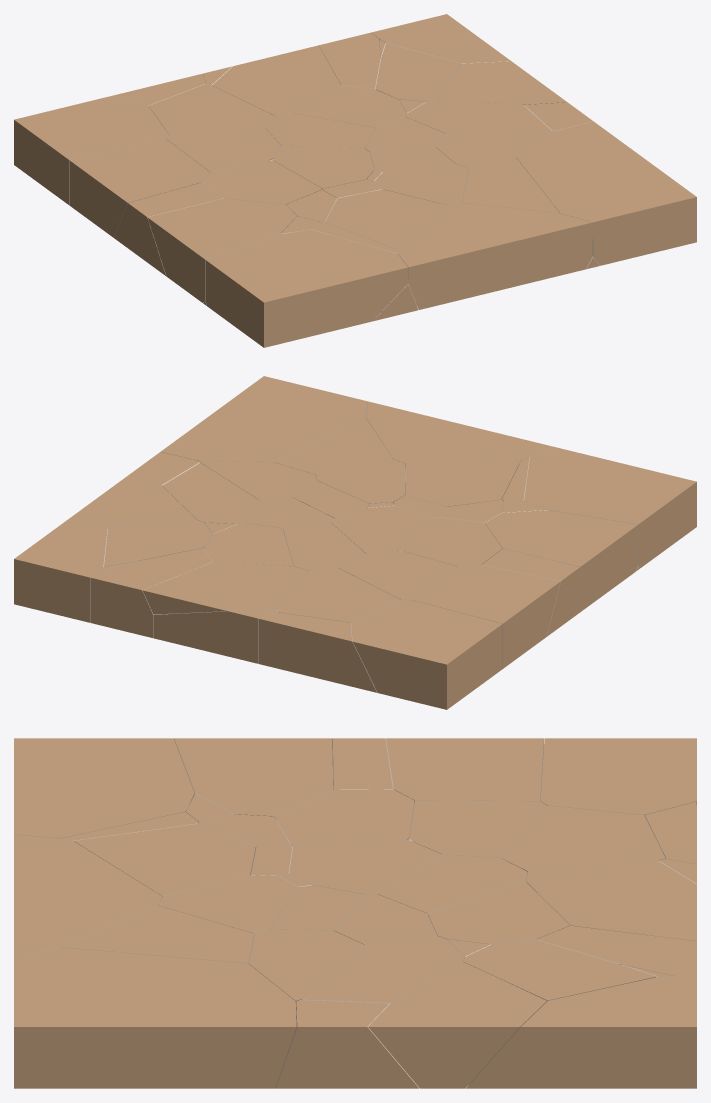
Rendered from Ceiling01_frac.fbx.
The picture shows the model from 3 angles, top to bottom: view 1: azimuth 30°, elevation 25°; view 2: azimuth 150°, elevation 25°; view 3: azimuth 270°, elevation 25°; orthographic projection. The views are drawn at different scales.
Parts seen in each view (by area): view 1: Ceiling01_cell.010, Ceiling01_cell, Ceiling01_cell.011, Ceiling01_cell.013, Ceiling01_cell.008, Ceiling01_cell.007, Ceiling01_cell.018, Ceiling01_cell.005, Ceiling01_cell.012, Ceiling01_cell.020, Ceiling01_cell.037, Ceiling01_cell.019 (+18 smaller); view 2: Ceiling01_cell.013, Ceiling01_cell.010, Ceiling01_cell, Ceiling01_cell.008, Ceiling01_cell.007, Ceiling01_cell.037, Ceiling01_cell.018, Ceiling01_cell.011, Ceiling01_cell.031, Ceiling01_cell.044, Ceiling01_cell.005, Ceiling01_cell.043 (+19 smaller); view 3: Ceiling01_cell, Ceiling01_cell.037, Ceiling01_cell.010, Ceiling01_cell.020, Ceiling01_cell.011, Ceiling01_cell.013, Ceiling01_cell.008, Ceiling01_cell.018, Ceiling01_cell.007, Ceiling01_cell.045, Ceiling01_cell.005, Ceiling01_cell.012 (+19 smaller).
Part boxes in pixels (x1,y1,x2,y2): Ceiling01_cell.010: [205, 230, 408, 347]; Ceiling01_cell: [516, 121, 696, 265]; Ceiling01_cell.011: [396, 203, 592, 309]; Ceiling01_cell.013: [14, 96, 169, 205]; Ceiling01_cell.008: [147, 198, 296, 302]; Ceiling01_cell.007: [70, 138, 210, 237]; Ceiling01_cell.018: [212, 45, 340, 115]; Ceiling01_cell.005: [325, 189, 446, 250]; Ceiling01_cell.012: [149, 84, 275, 135]; Ceiling01_cell.020: [435, 61, 566, 104]; Ceiling01_cell.037: [371, 14, 510, 64]; Ceiling01_cell.019: [405, 100, 550, 133]; Ceiling01_cell.013: [351, 599, 502, 709]; Ceiling01_cell.010: [524, 446, 696, 568]; Ceiling01_cell: [160, 376, 367, 462]; Ceiling01_cell.008: [485, 510, 638, 598]; Ceiling01_cell.007: [410, 564, 560, 668]; Ceiling01_cell.037: [14, 512, 107, 622]; Ceiling01_cell.018: [142, 562, 308, 614]; Ceiling01_cell.011: [366, 401, 551, 473]; Ceiling01_cell.031: [258, 612, 377, 692]; Ceiling01_cell.044: [90, 548, 212, 637]; Ceiling01_cell.005: [405, 460, 520, 506]; Ceiling01_cell.043: [153, 609, 277, 663]; Ceiling01_cell: [14, 947, 296, 1088]; Ceiling01_cell.037: [466, 976, 696, 1088]; Ceiling01_cell.010: [14, 738, 194, 838]; Ceiling01_cell.020: [368, 962, 546, 1088]; Ceiling01_cell.011: [14, 834, 162, 957]; Ceiling01_cell.013: [540, 738, 696, 815]; Ceiling01_cell.008: [174, 738, 333, 818]; Ceiling01_cell.018: [526, 860, 696, 941]; Ceiling01_cell.007: [386, 738, 543, 801]; Ceiling01_cell.045: [275, 999, 419, 1088]; Ceiling01_cell.005: [74, 824, 255, 896]; Ceiling01_cell.012: [501, 805, 665, 872].
Bounding box in the file's own units: 300 × 30 × 300.
